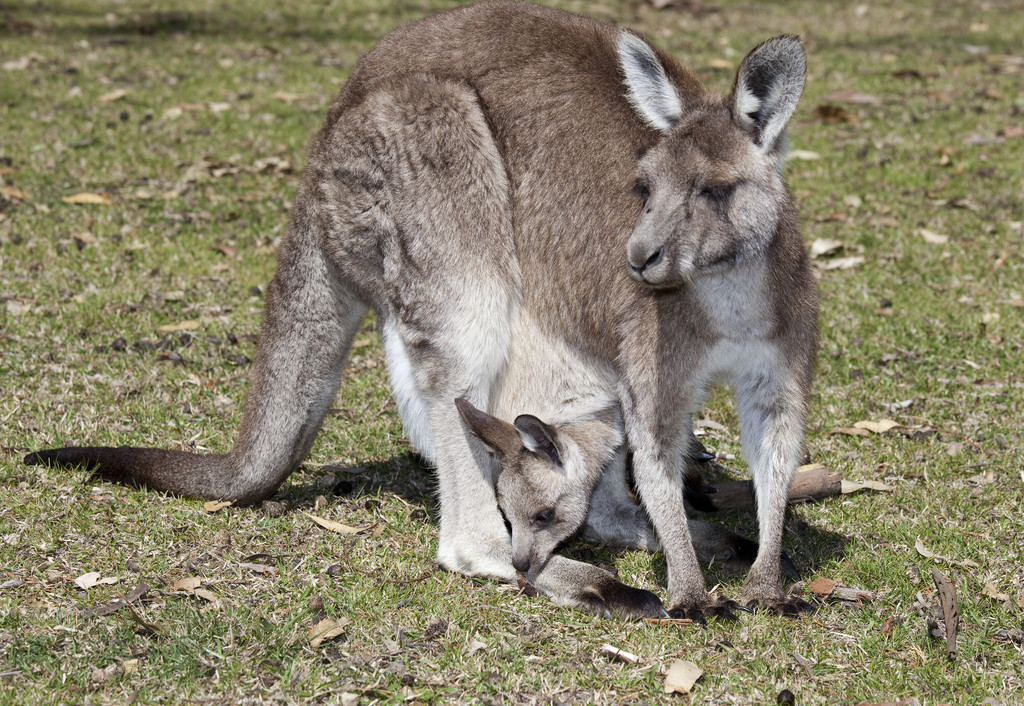kangaroo: (8, 5, 861, 629), (453, 387, 801, 584)
